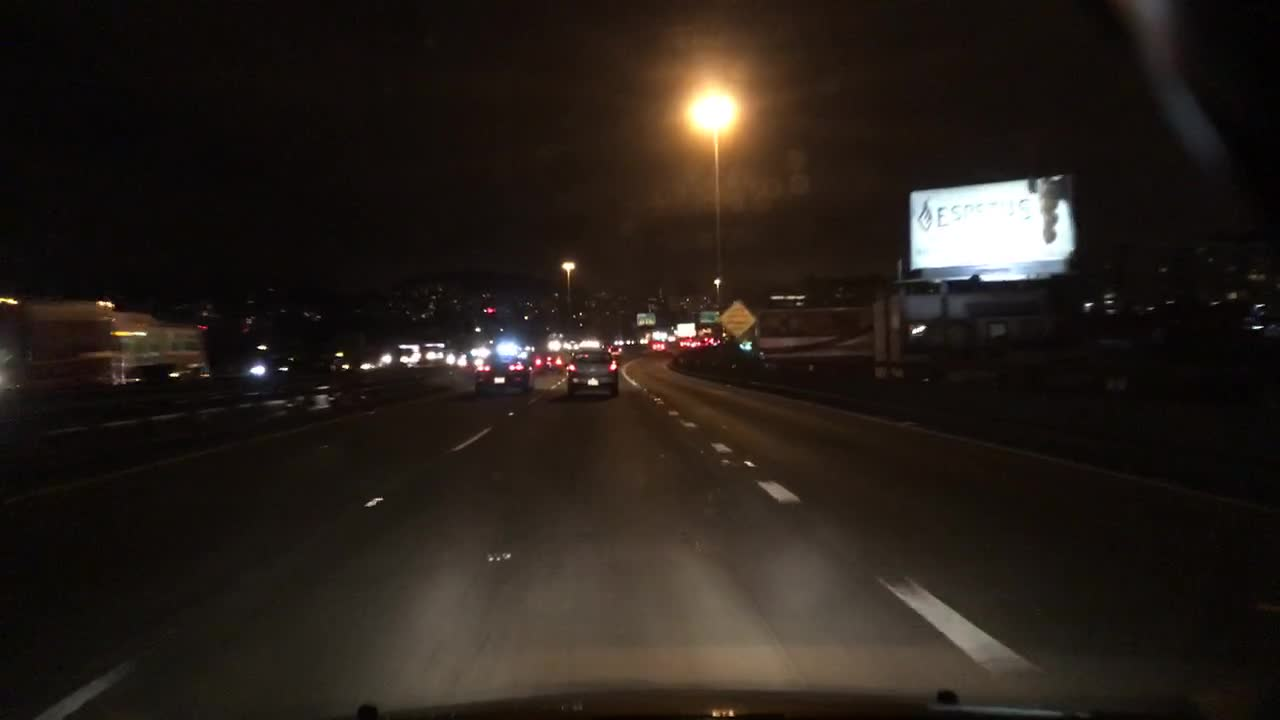car: (472, 348, 535, 397), (564, 348, 619, 397), (244, 351, 298, 377), (133, 359, 182, 383), (413, 342, 450, 368), (375, 346, 413, 368), (338, 353, 376, 372), (530, 351, 562, 369), (544, 337, 578, 351), (496, 339, 526, 354), (442, 353, 471, 365), (578, 337, 604, 348), (679, 339, 702, 348), (607, 344, 624, 355), (702, 336, 721, 345), (665, 330, 676, 345), (610, 336, 627, 345), (637, 336, 653, 345), (654, 330, 665, 342)
traffic sign: (718, 301, 755, 338), (700, 308, 718, 327), (636, 313, 657, 324)
